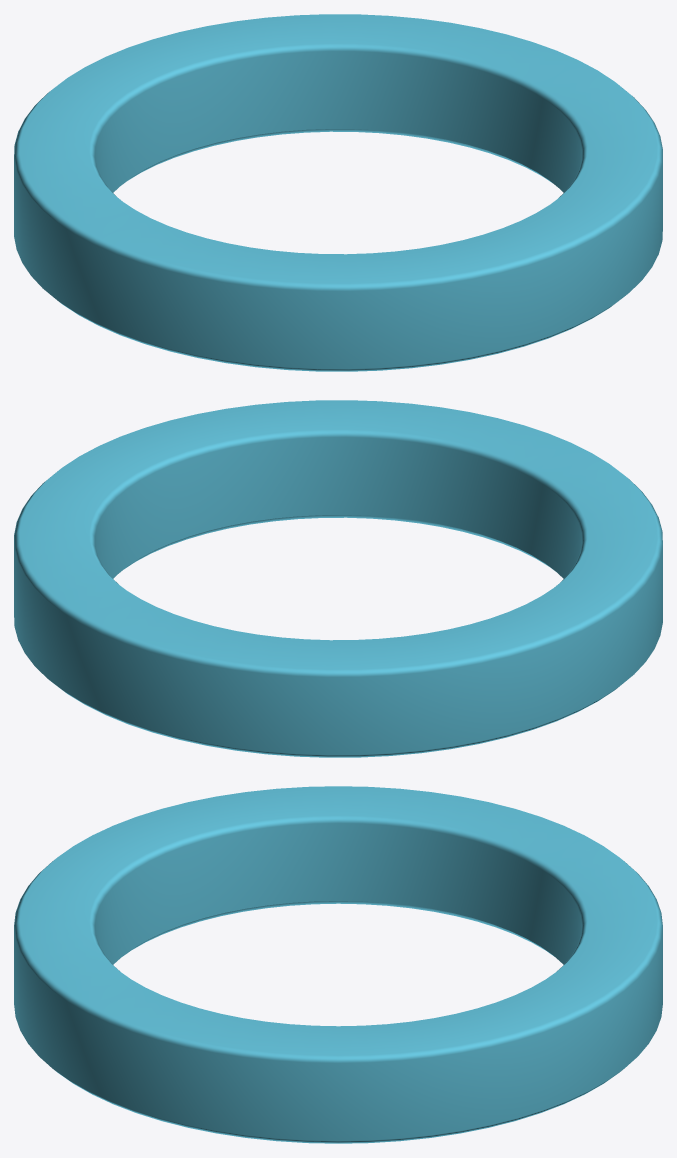
The picture shows the model from 3 angles, top to bottom: view 1: azimuth 30°, elevation 25°; view 2: azimuth 150°, elevation 25°; view 3: azimuth 270°, elevation 25°; orthographic projection.
Parts seen in each view (by area): view 1: seal_body; view 2: seal_body; view 3: seal_body.
Part boxes in pixels (x1,y1,x2,y2): seal_body: [14, 14, 662, 371]; seal_body: [14, 400, 662, 757]; seal_body: [14, 786, 662, 1143].
Size of the model in its own units: 0.08 by 0.012 by 0.08.
